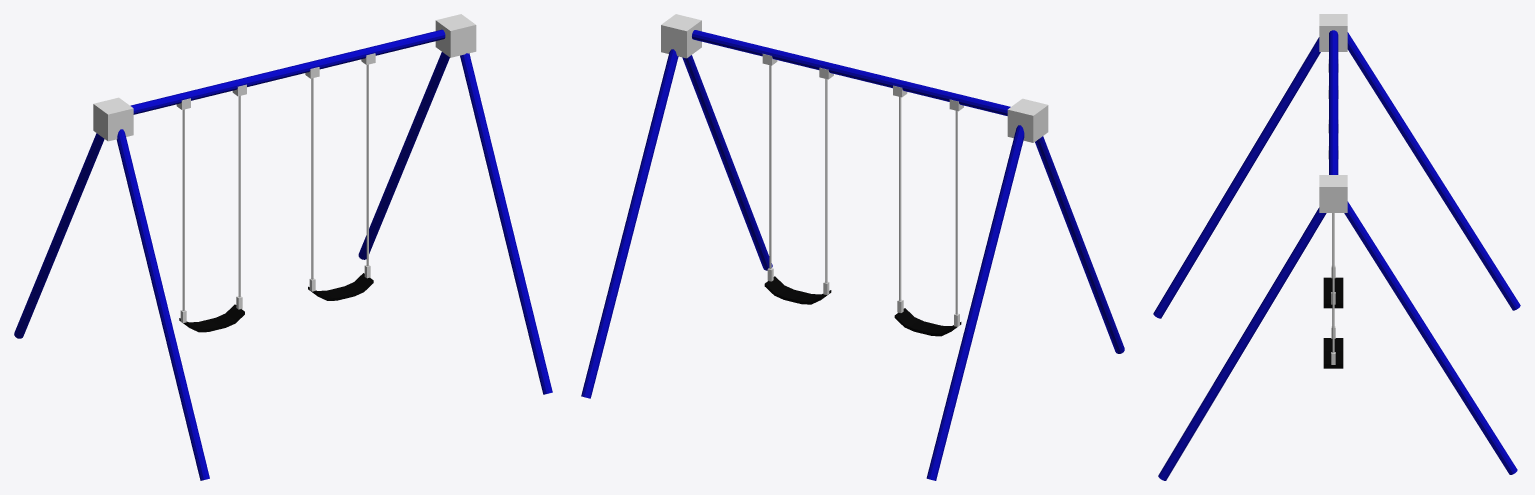
Rendered from SwingSet.fbx.
The picture shows the model from 3 angles, left to right: view 1: azimuth 30°, elevation 25°; view 2: azimuth 150°, elevation 25°; view 3: azimuth 270°, elevation 25°; orthographic projection. The views are drawn at different scales.
Parts seen in each view (by area): view 1: pCylinder10; view 2: pCylinder10; view 3: pCylinder10.
Boxes of the visible parts, <box> form: pCylinder10: <box>14,14,552,480</box>; pCylinder10: <box>581,14,1124,480</box>; pCylinder10: <box>1153,14,1520,480</box>.
Bounding box in the file's own units: 22.93 × 18.4 × 20.58.
